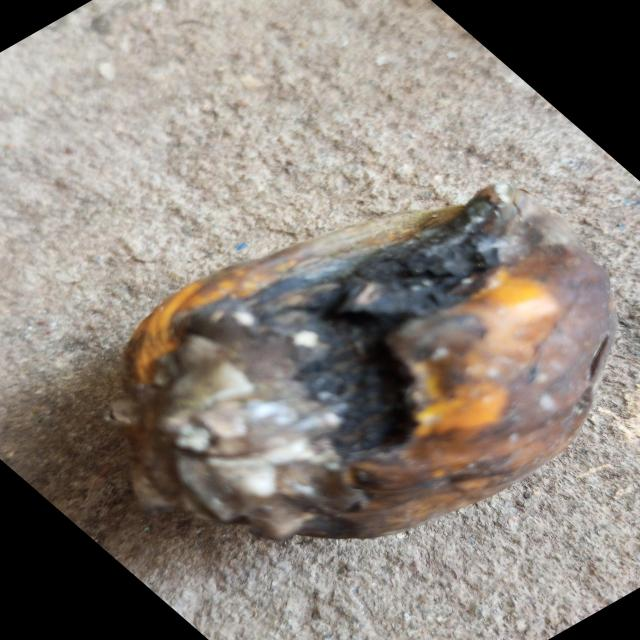damaged: (106, 184, 614, 547)
